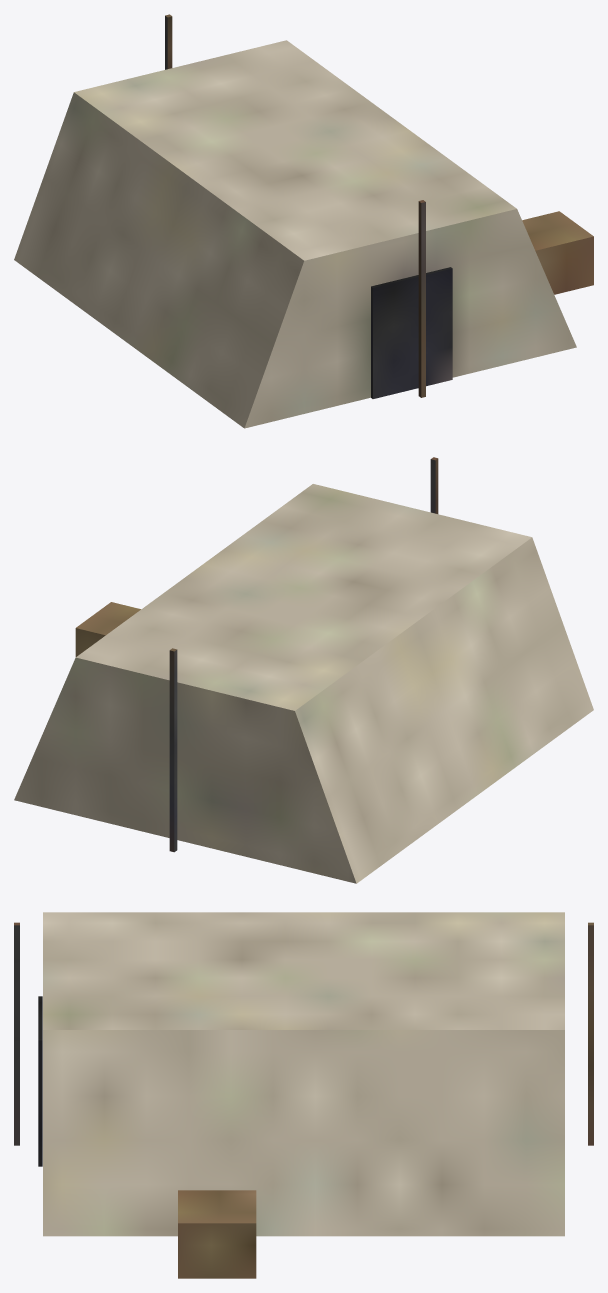
Rendered from SM_Tent.fbx.
The picture shows the model from 3 angles, top to bottom: view 1: azimuth 30°, elevation 25°; view 2: azimuth 150°, elevation 25°; view 3: azimuth 270°, elevation 25°; orthographic projection. The views are drawn at different scales.
Visible parts, largest first — view 1: SM_Tent; view 2: SM_Tent; view 3: SM_Tent.
Part boxes in pixels (x1,y1,x2,y2): SM_Tent: (14,14,593,428); SM_Tent: (14,457,593,883); SM_Tent: (14,912,593,1278).
Size of the model in its own units: 615 by 280 by 667.
1 material, 1 textured.
